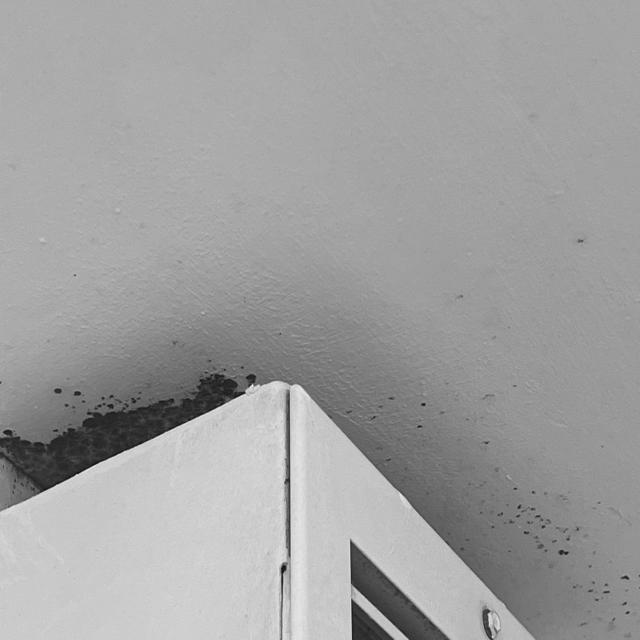stain marks: (333, 354, 640, 640), (0, 319, 263, 506), (515, 102, 548, 138), (566, 228, 593, 252), (449, 288, 476, 312)
